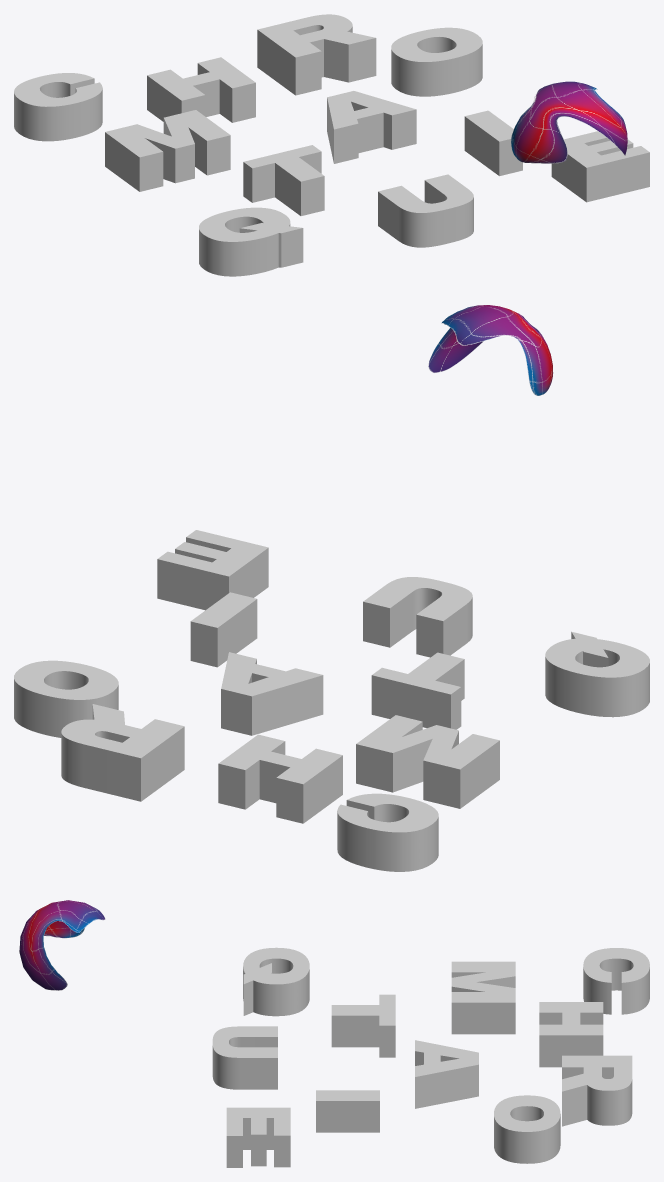
File: essaie22tabarnak.obj
The picture shows the model from 3 angles, top to bottom: view 1: azimuth 30°, elevation 25°; view 2: azimuth 150°, elevation 25°; view 3: azimuth 270°, elevation 25°; orthographic projection. The views are drawn at different scales.
Visible parts, largest first — view 1: typeMesh1, pSphere1; view 2: typeMesh1, pSphere1; view 3: typeMesh1, pSphere1.
Part boxes in pixels (x1,y1,x2,y2): typeMesh1: (14,14,649,276); pSphere1: (511,81,627,163); typeMesh1: (14,530,649,871); pSphere1: (428,305,553,395); typeMesh1: (212,947,649,1167); pSphere1: (19,900,105,990).
Bounding box in the file's own units: 8.18 × 3.79 × 11.68.
Materials: 2 (1 with a texture image).
